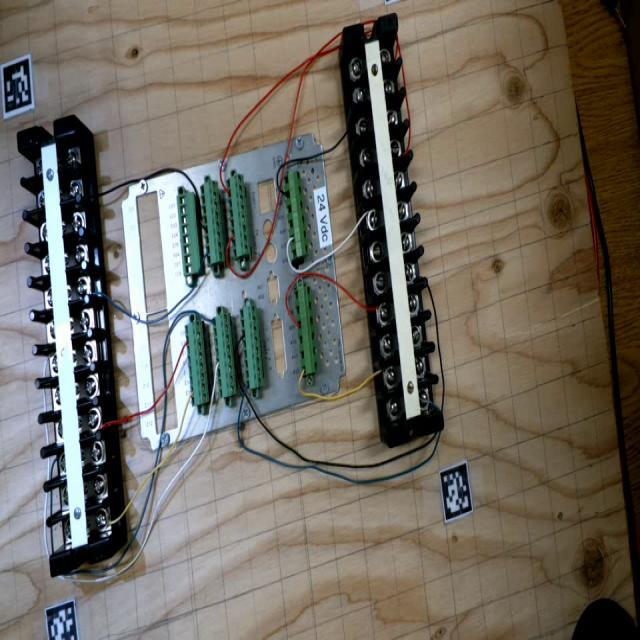Flathead_Block: (342, 14, 446, 448)
Phillips_Block: (16, 115, 111, 577)
Terminal_1: (293, 285, 319, 376), (283, 170, 309, 260)
Terminal_2: (200, 179, 225, 267), (212, 312, 237, 399), (226, 172, 251, 259), (239, 304, 264, 390), (184, 321, 209, 407)
